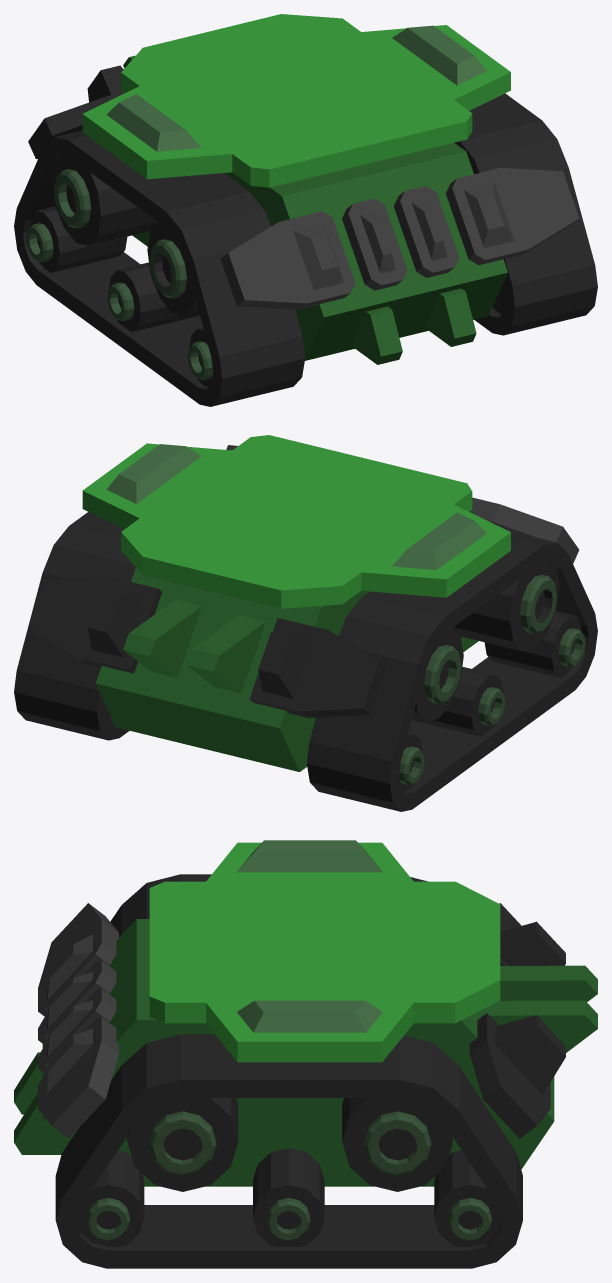
File: heavy_base.fbx
3 renders of one model, top to bottom at view 1: azimuth 30°, elevation 25°; view 2: azimuth 150°, elevation 25°; view 3: azimuth 270°, elevation 25°, orthographic. The views are drawn at different scales.
Parts seen in each view (by area): view 1: Cube.078, Cylinder.061, Cube.077, Cube.079, Cube.081, Cylinder.056, Cylinder.058, Cylinder.059, Cylinder.055, Cube.080, Cylinder.057; view 2: Cube.078, Cylinder.061, Cube.077, Cube.080, Cylinder.055, Cylinder.057, Cylinder.059, Cylinder.056, Cube.079, Cylinder.058; view 3: Cube.078, Cylinder.061, Cube.077, Cube.080, Cube.079, Cylinder.055, Cylinder.056, Cylinder.059, Cylinder.057, Cylinder.058, Cube.081.
Part boxes in pixels (x1,y1,x2,y2): Cube.078: (82,14,510,187); Cylinder.061: (14,93,597,406); Cube.077: (123,55,507,364); Cube.079: (220,168,579,309); Cube.081: (342,186,459,290); Cylinder.056: (51,155,157,245); Cylinder.058: (26,206,127,272); Cylinder.059: (107,262,199,331); Cylinder.055: (147,222,198,315); Cube.080: (28,65,124,158); Cylinder.057: (187,283,505,386); Cube.078: (82,435,510,608); Cylinder.061: (14,512,597,811); Cube.077: (96,510,478,771); Cube.080: (28,576,386,717); Cylinder.055: (453,561,559,651); Cylinder.057: (484,611,585,677); Cylinder.059: (412,666,505,736); Cylinder.056: (412,628,463,721); Cube.079: (226,445,579,563); Cylinder.058: (106,707,424,791); Cube.078: (149,840,500,1062); Cylinder.061: (55,874,522,1268); Cube.077: (14,919,597,1186); Cube.080: (469,903,565,1138); Cube.079: (38,903,118,1138); Cylinder.055: (127,1098,238,1191); Cylinder.056: (342,1098,452,1191); Cylinder.059: (253,1148,324,1246); Cylinder.057: (76,1150,144,1246); Cylinder.058: (434,1150,502,1246); Cube.081: (38,960,116,1073).
Bounding box in the file's own units: 208 × 111 × 246.
